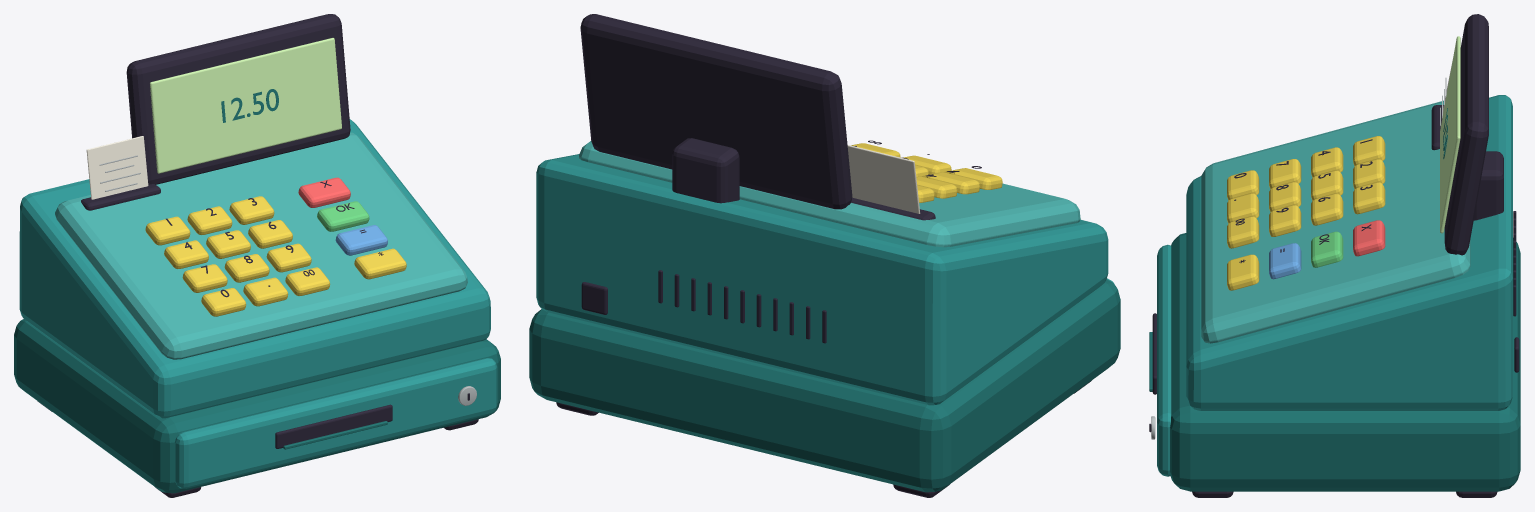
The model's file is cash_register.glb.
3 renders of one model, left to right at view 1: azimuth 30°, elevation 25°; view 2: azimuth 150°, elevation 25°; view 3: azimuth 270°, elevation 25°, orthographic. The views are drawn at different scales.
Parts seen in each view (by area): view 1: Sloped_keypad_plate, Upper_casing, Drawer_housing, Display_glass, Drawer_front, Screen_frame, Paper_receipt, Drawer_recessed_handle, Function_key_3, Function_key_2, Function_key_0, Function_key_1 (+14 smaller); view 2: Upper_casing, Drawer_housing, Screen_frame, Sloped_keypad_plate, Screen_support, Paper_receipt, Power_socket; view 3: Upper_casing, Drawer_housing, Sloped_keypad_plate, Screen_frame, Drawer_front, Display_glass, Screen_support, Function_key_3, Function_key_2, Function_key_0, Function_key_1, Numeric_key_5 (+12 smaller).
Part boxes in pixels (x1,y1,x2,y2): Sloped_keypad_plate: [55, 132, 467, 359]; Upper_casing: [19, 119, 490, 418]; Drawer_housing: [14, 319, 500, 493]; Display_glass: [150, 38, 341, 173]; Drawer_front: [175, 358, 497, 488]; Screen_frame: [126, 14, 350, 184]; Paper_receipt: [86, 136, 148, 199]; Drawer_recessed_handle: [275, 404, 392, 448]; Function_key_3: [354, 248, 406, 279]; Function_key_2: [335, 225, 387, 255]; Function_key_0: [298, 177, 350, 207]; Function_key_1: [317, 201, 369, 231]; Upper_casing: [536, 154, 1108, 405]; Drawer_housing: [529, 279, 1120, 492]; Screen_frame: [580, 14, 852, 209]; Sloped_keypad_plate: [579, 141, 1080, 247]; Screen_support: [672, 138, 739, 203]; Paper_receipt: [847, 145, 920, 213]; Power_socket: [581, 282, 607, 314]; Upper_casing: [1186, 95, 1512, 410]; Drawer_housing: [1170, 233, 1520, 491]; Sloped_keypad_plate: [1201, 100, 1470, 343]; Screen_frame: [1444, 14, 1488, 255]; Drawer_front: [1157, 244, 1171, 476]; Display_glass: [1440, 36, 1460, 233]; Screen_support: [1473, 151, 1503, 220]; Function_key_3: [1227, 254, 1259, 290]; Function_key_2: [1269, 243, 1301, 279]; Function_key_0: [1353, 220, 1385, 256]; Function_key_1: [1311, 231, 1343, 267]; Numeric_key_5: [1311, 193, 1343, 225].
Bounding box in the file's own units: 0.46 × 0.4125 × 0.38.
